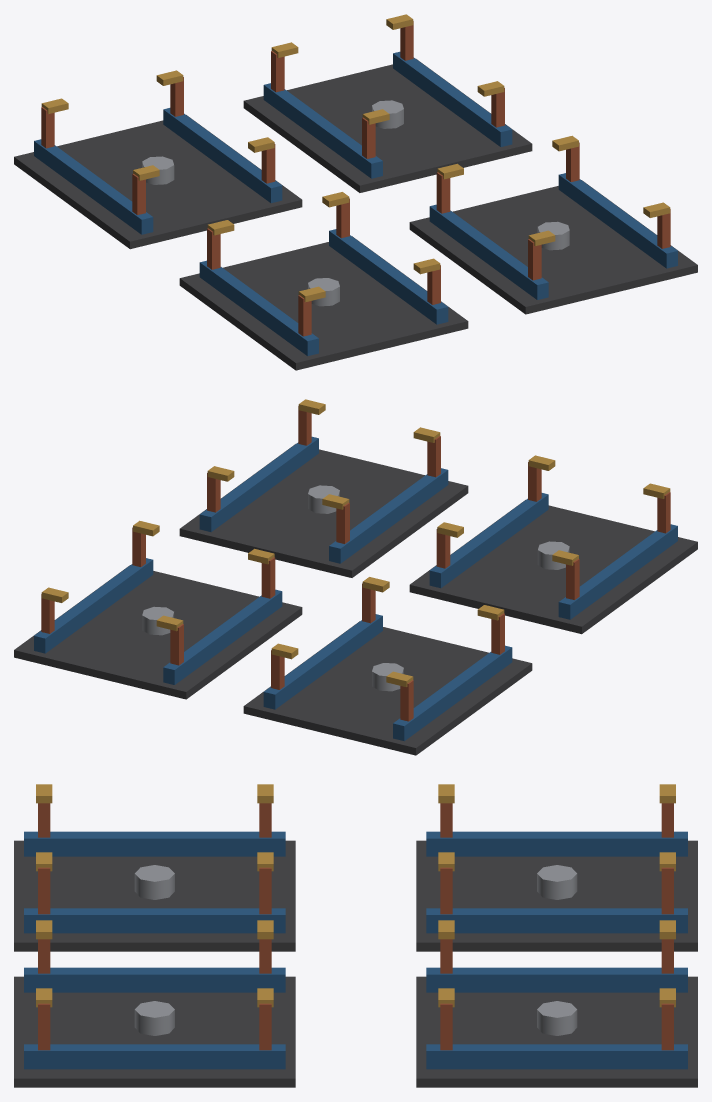
File: drone4_cradle.obj
3 views of the same model, one above another, from view 1: azimuth 30°, elevation 25°; view 2: azimuth 150°, elevation 25°; view 3: azimuth 270°, elevation 25° (orthographic). The views are drawn at different scales.
Visible parts, largest first — view 1: drone4_cradle; view 2: drone4_cradle; view 3: drone4_cradle.
Part boxes in pixels (x1,y1,x2,y2): drone4_cradle: [14, 14, 697, 370]; drone4_cradle: [14, 399, 697, 755]; drone4_cradle: [14, 784, 697, 1087].
Bounding box in the file's own units: 2.8 × 0.42 × 3.4.
